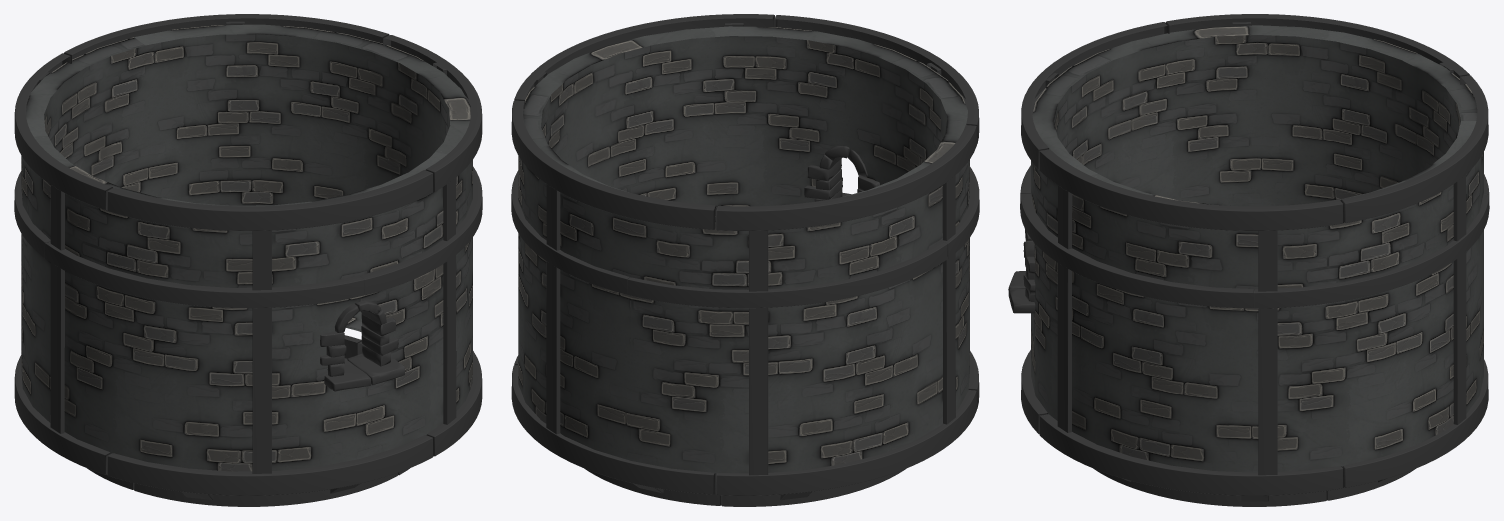
File: SM_Tower_Top_Base_WIp.FBX
The picture shows the model from 3 angles, left to right: view 1: azimuth 30°, elevation 25°; view 2: azimuth 150°, elevation 25°; view 3: azimuth 270°, elevation 25°; orthographic projection.
Parts seen in each view (by area): view 1: SM_Tower_Top_Base_WIp_LOD0; view 2: SM_Tower_Top_Base_WIp_LOD0; view 3: SM_Tower_Top_Base_WIp_LOD0.
Part boxes in pixels (x1,y1,x2,y2): SM_Tower_Top_Base_WIp_LOD0: [14, 14, 482, 506]; SM_Tower_Top_Base_WIp_LOD0: [511, 14, 979, 506]; SM_Tower_Top_Base_WIp_LOD0: [1008, 14, 1489, 506].
Bounding box in the file's own units: 1748 × 1792 × 1294.
